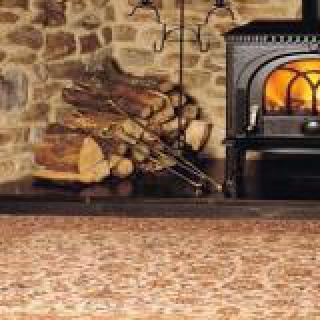fire: (256, 56, 320, 114)
